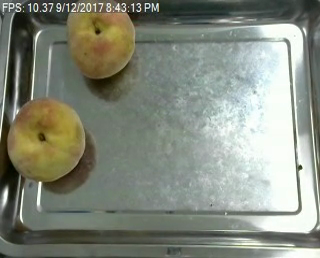Peach: (5, 96, 86, 181), (66, 1, 135, 79)
